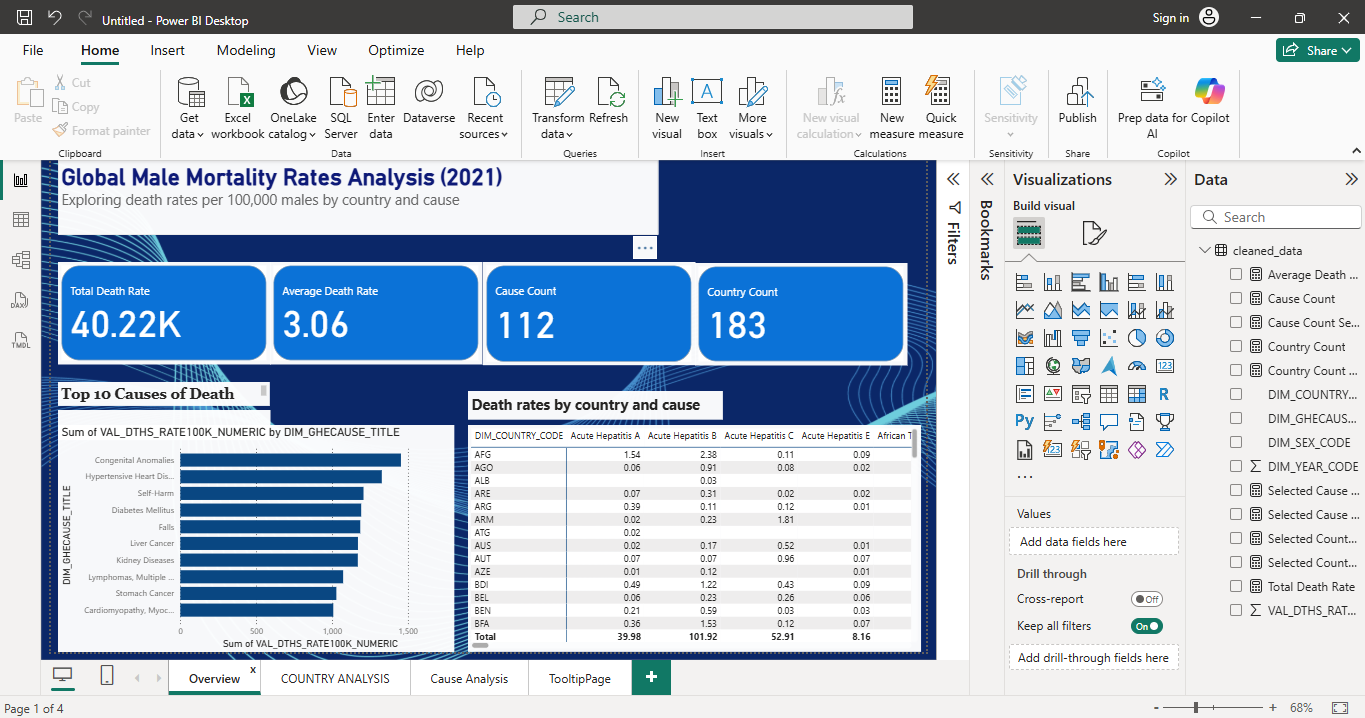

This screenshot's page, from the dashboard's own definition file:
{"tool":"powerbi","page":{"name":"Overview","canvas":[1280,720],"ordinal":0},"visuals":[{"type":"textbox","box":[10.1,0,878.5,109.2],"z":0},{"type":"cardVisual","fields":{"Data":["cleaned_data.Total Death Rate"]},"box":[10.1,149.5,310.8,149.5],"z":1000},{"type":"cardVisual","fields":{"Data":["cleaned_data.Average Death Rate"]},"box":[320.8,149.5,310.8,149.5],"z":2000},{"type":"cardVisual","fields":{"Data":["cleaned_data.Cause Count"]},"box":[631.6,149.5,310.8,151.2],"z":3000},{"type":"cardVisual","fields":{"Data":["cleaned_data.Country Count"]},"box":[942.4,151.2,310.8,149.5],"z":4000},{"type":"textbox","box":[10.1,366.2,310.8,43.7],"z":5000},{"type":"textbox","box":[10.2,324.9,310.2,35.1],"z":6000},{"type":"clusteredBarChart","fields":{"Category":["cleaned_data.DIM_GHECAUSE_TITLE"],"Y":["Sum(cleaned_data.VAL_DTHS_RATE100K_NUMERIC)"]},"box":[10.1,388,579.5,332.6],"z":7000},{"type":"textbox","box":[610.2,338,373.2,42.4],"z":9000},{"type":"pivotTable","fields":{"Rows":["cleaned_data.DIM_COUNTRY_CODE"],"Columns":["cleaned_data.DIM_GHECAUSE_TITLE"],"Values":["Sum(cleaned_data.VAL_DTHS_RATE100K_NUMERIC)"]},"box":[610.2,387.8,662.9,332.2],"z":10000}]}

Visuals, with their boxes on the page's 1280x720 design canvas (x1, y1, x2, y2). These are canvas units, not pixel positions in the 1365x718 screenshot, which may show the page scaled, cropped or inside an application window:
textbox: {"x1": 10, "y1": 0, "x2": 889, "y2": 109}
cardVisual - cleaned_data.Total Death Rate: {"x1": 10, "y1": 150, "x2": 321, "y2": 299}
cardVisual - cleaned_data.Average Death Rate: {"x1": 321, "y1": 150, "x2": 632, "y2": 299}
cardVisual - cleaned_data.Cause Count: {"x1": 632, "y1": 150, "x2": 942, "y2": 301}
cardVisual - cleaned_data.Country Count: {"x1": 942, "y1": 151, "x2": 1253, "y2": 301}
textbox: {"x1": 10, "y1": 366, "x2": 321, "y2": 410}
textbox: {"x1": 10, "y1": 325, "x2": 320, "y2": 360}
clusteredBarChart - cleaned_data.DIM_GHECAUSE_TITLE x Sum(cleaned_data.VAL_DTHS_RATE100K_NUMERIC): {"x1": 10, "y1": 388, "x2": 590, "y2": 721}
textbox: {"x1": 610, "y1": 338, "x2": 983, "y2": 380}
pivotTable - cleaned_data.DIM_COUNTRY_CODE x cleaned_data.DIM_GHECAUSE_TITLE: {"x1": 610, "y1": 388, "x2": 1273, "y2": 720}
